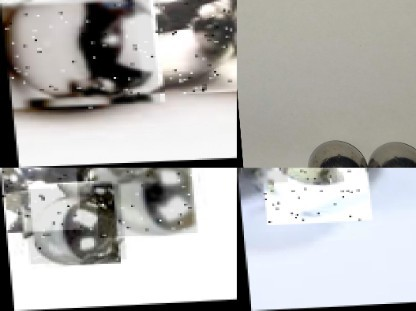ironball: (0, 0, 158, 112), (132, 0, 237, 97), (22, 186, 124, 265), (91, 168, 195, 239), (261, 168, 371, 226), (0, 168, 80, 233), (306, 136, 364, 167), (366, 134, 416, 167)
